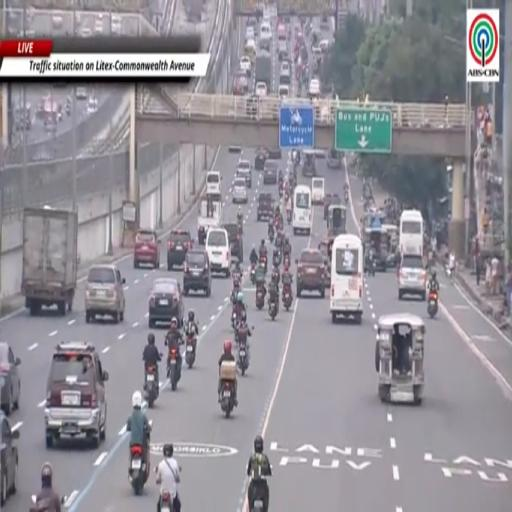bus: (330, 234, 363, 324), (399, 210, 423, 255), (292, 185, 312, 235)
car: (45, 342, 108, 449), (85, 264, 125, 323), (0, 413, 19, 506), (149, 278, 184, 328), (0, 343, 20, 415), (296, 249, 325, 298), (183, 248, 211, 297), (398, 254, 426, 300), (134, 229, 160, 268), (167, 230, 192, 270), (222, 223, 243, 262), (257, 194, 274, 221), (236, 159, 251, 188), (324, 194, 341, 219), (302, 150, 317, 177), (233, 70, 249, 95), (233, 178, 248, 203), (263, 160, 278, 184), (246, 94, 258, 118), (255, 149, 267, 170), (309, 78, 320, 97), (240, 56, 251, 75), (277, 41, 287, 61), (255, 83, 267, 98), (267, 147, 281, 159), (75, 86, 87, 100), (279, 85, 289, 100), (319, 39, 329, 53), (245, 26, 255, 40), (280, 61, 290, 75), (279, 74, 290, 85), (246, 16, 257, 27)
jeepney: (375, 313, 425, 404)
motorcycle: (129, 445, 147, 495), (144, 366, 158, 408), (167, 348, 180, 391), (221, 380, 234, 418), (237, 339, 249, 376), (249, 485, 265, 511), (185, 334, 196, 369), (159, 489, 173, 511), (427, 291, 438, 317), (30, 494, 44, 511), (283, 285, 292, 311), (268, 300, 278, 321), (231, 304, 239, 329), (256, 288, 264, 310), (259, 254, 267, 274), (273, 266, 280, 284), (273, 253, 281, 268), (250, 264, 255, 284), (283, 253, 290, 266), (268, 228, 274, 243), (238, 218, 243, 234), (287, 210, 292, 225), (279, 187, 282, 199), (345, 191, 348, 203)
truck: (21, 206, 77, 315), (198, 195, 222, 245), (255, 53, 272, 93)
